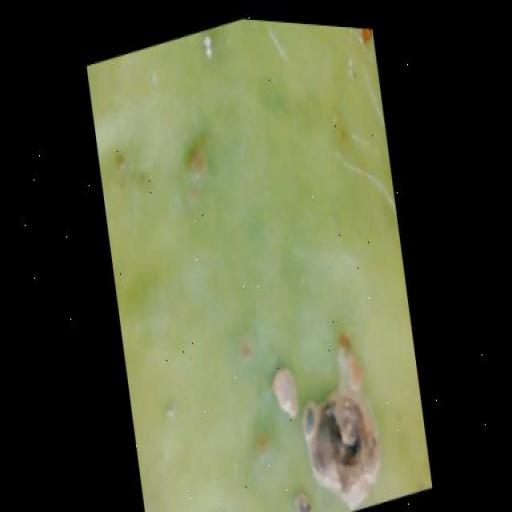stemcanker: (428, 99, 480, 177), (379, 216, 408, 263), (337, 186, 361, 232)
